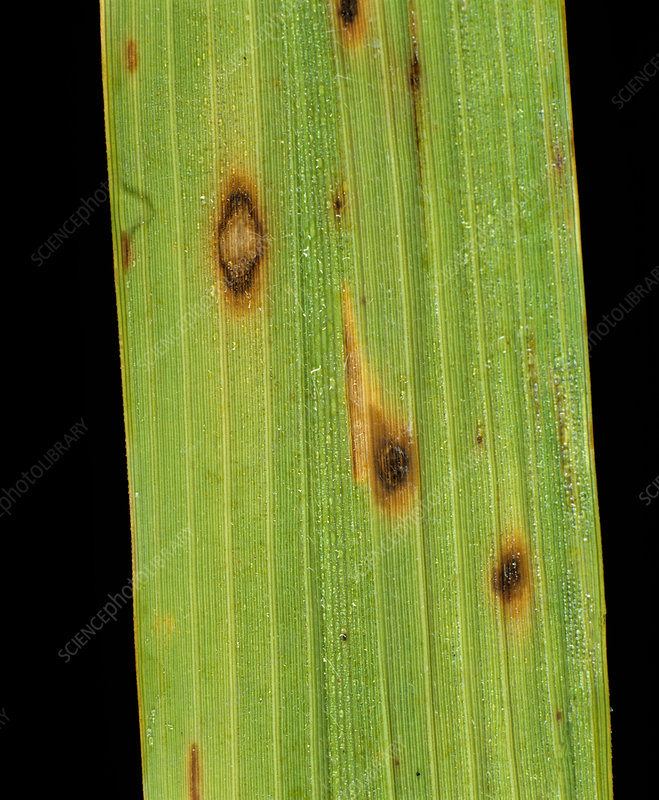Bercak Coklat: (197, 176, 279, 311), (354, 411, 429, 511), (465, 525, 545, 616), (314, 2, 387, 44)
